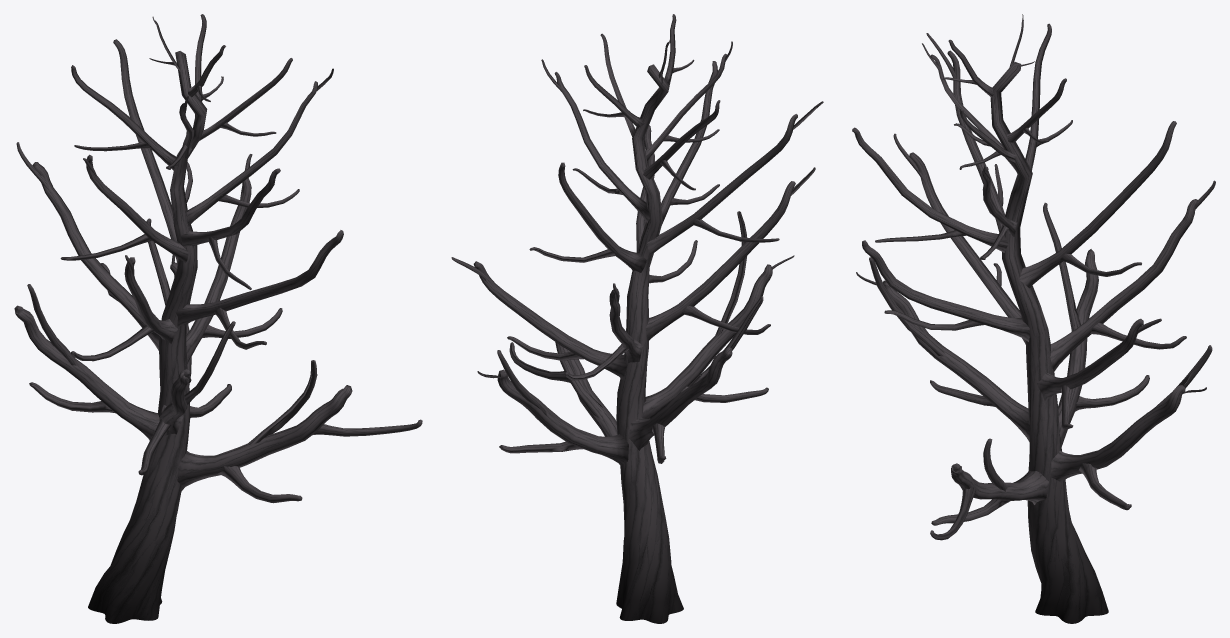
Rendered from DeadTree_2.glb.
3 renders of one model, left to right at view 1: azimuth 30°, elevation 25°; view 2: azimuth 150°, elevation 25°; view 3: azimuth 270°, elevation 25°, orthographic. The views are drawn at different scales.
Parts seen in each view (by area): view 1: DeadTree_2; view 2: DeadTree_2; view 3: DeadTree_2.
Boxes of the visible parts, x1=… form: DeadTree_2: x1=14, y1=14, x2=422, y2=623; DeadTree_2: x1=451, y1=14, x2=823, y2=623; DeadTree_2: x1=852, y1=14, x2=1215, y2=623.
Bounding box in the file's own units: 6.73 × 11.49 × 6.38.
1 material, 1 textured.
